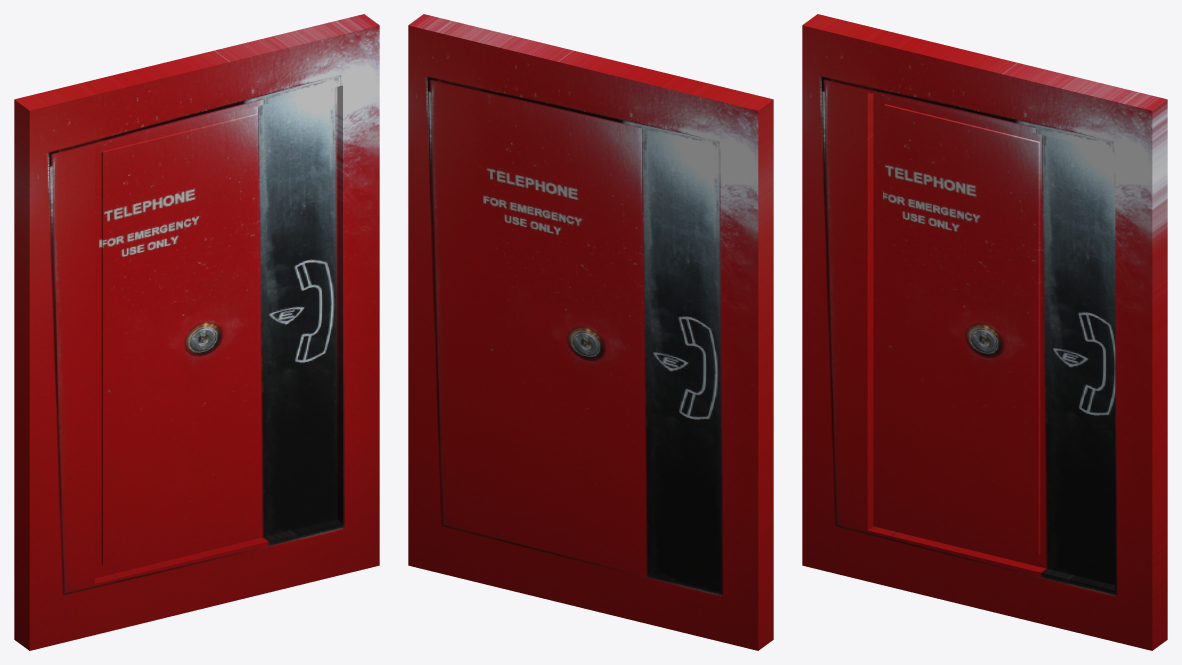
File: FirePhone.FBX
3 views of the same model, side by side, from view 1: azimuth 30°, elevation 25°; view 2: azimuth 150°, elevation 25°; view 3: azimuth 330°, elevation 25° (orthographic).
Visible parts, largest first — view 1: FireTelephone; view 2: FireTelephone; view 3: FireTelephone.
Boxes of the visible parts, x1,y1,x2,y2 form: FireTelephone: (14,14,379,650); FireTelephone: (408,14,773,650); FireTelephone: (802,14,1167,650).
Size of the model in its own units: 57.35 by 84.56 by 4.41.
1 material, 1 textured.
